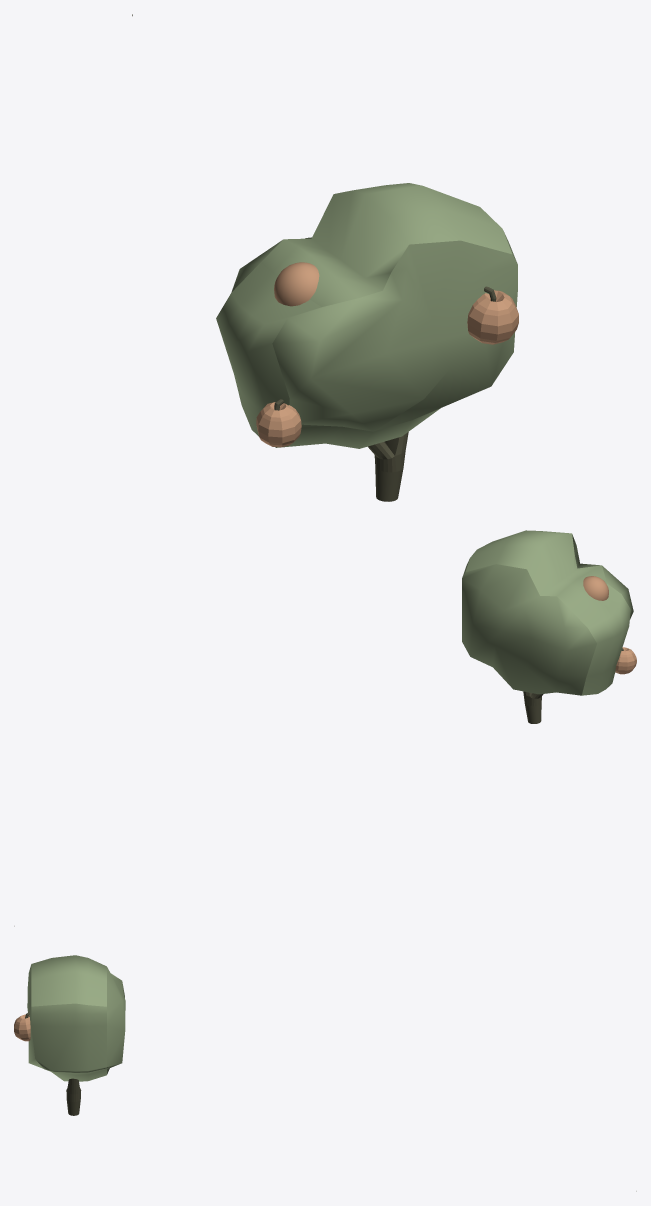
File: Tree2AppleDark.fbx
3 views of the same model, one above another, from view 1: azimuth 30°, elevation 25°; view 2: azimuth 150°, elevation 25°; view 3: azimuth 270°, elevation 25° (orthographic). The views are drawn at different scales.
Parts seen in each view (by area): view 1: ForEdit6:pCube14, ForEdit6:pSphere1, ForEdit6:pCylinder5, ForEdit6:pSphere2, ForEdit6:pSphere7; view 2: ForEdit6:pCube14; view 3: ForEdit6:pCube14, ForEdit6:pCylinder5, ForEdit6:pSphere1.
Part boxes in pixels (x1,y1,x2,y2): ForEdit6:pCube14: (216, 183, 517, 448); ForEdit6:pSphere1: (467, 290, 518, 344); ForEdit6:pCylinder5: (368, 432, 408, 501); ForEdit6:pSphere2: (256, 402, 301, 447); ForEdit6:pSphere7: (274, 262, 319, 306); ForEdit6:pCube14: (462, 530, 633, 695); ForEdit6:pCube14: (27, 955, 125, 1081); ForEdit6:pCylinder5: (66, 1078, 81, 1115); ForEdit6:pSphere1: (14, 1014, 30, 1041).
Bounding box in the file's own units: 5.65 × 3.68 × 13.28.
